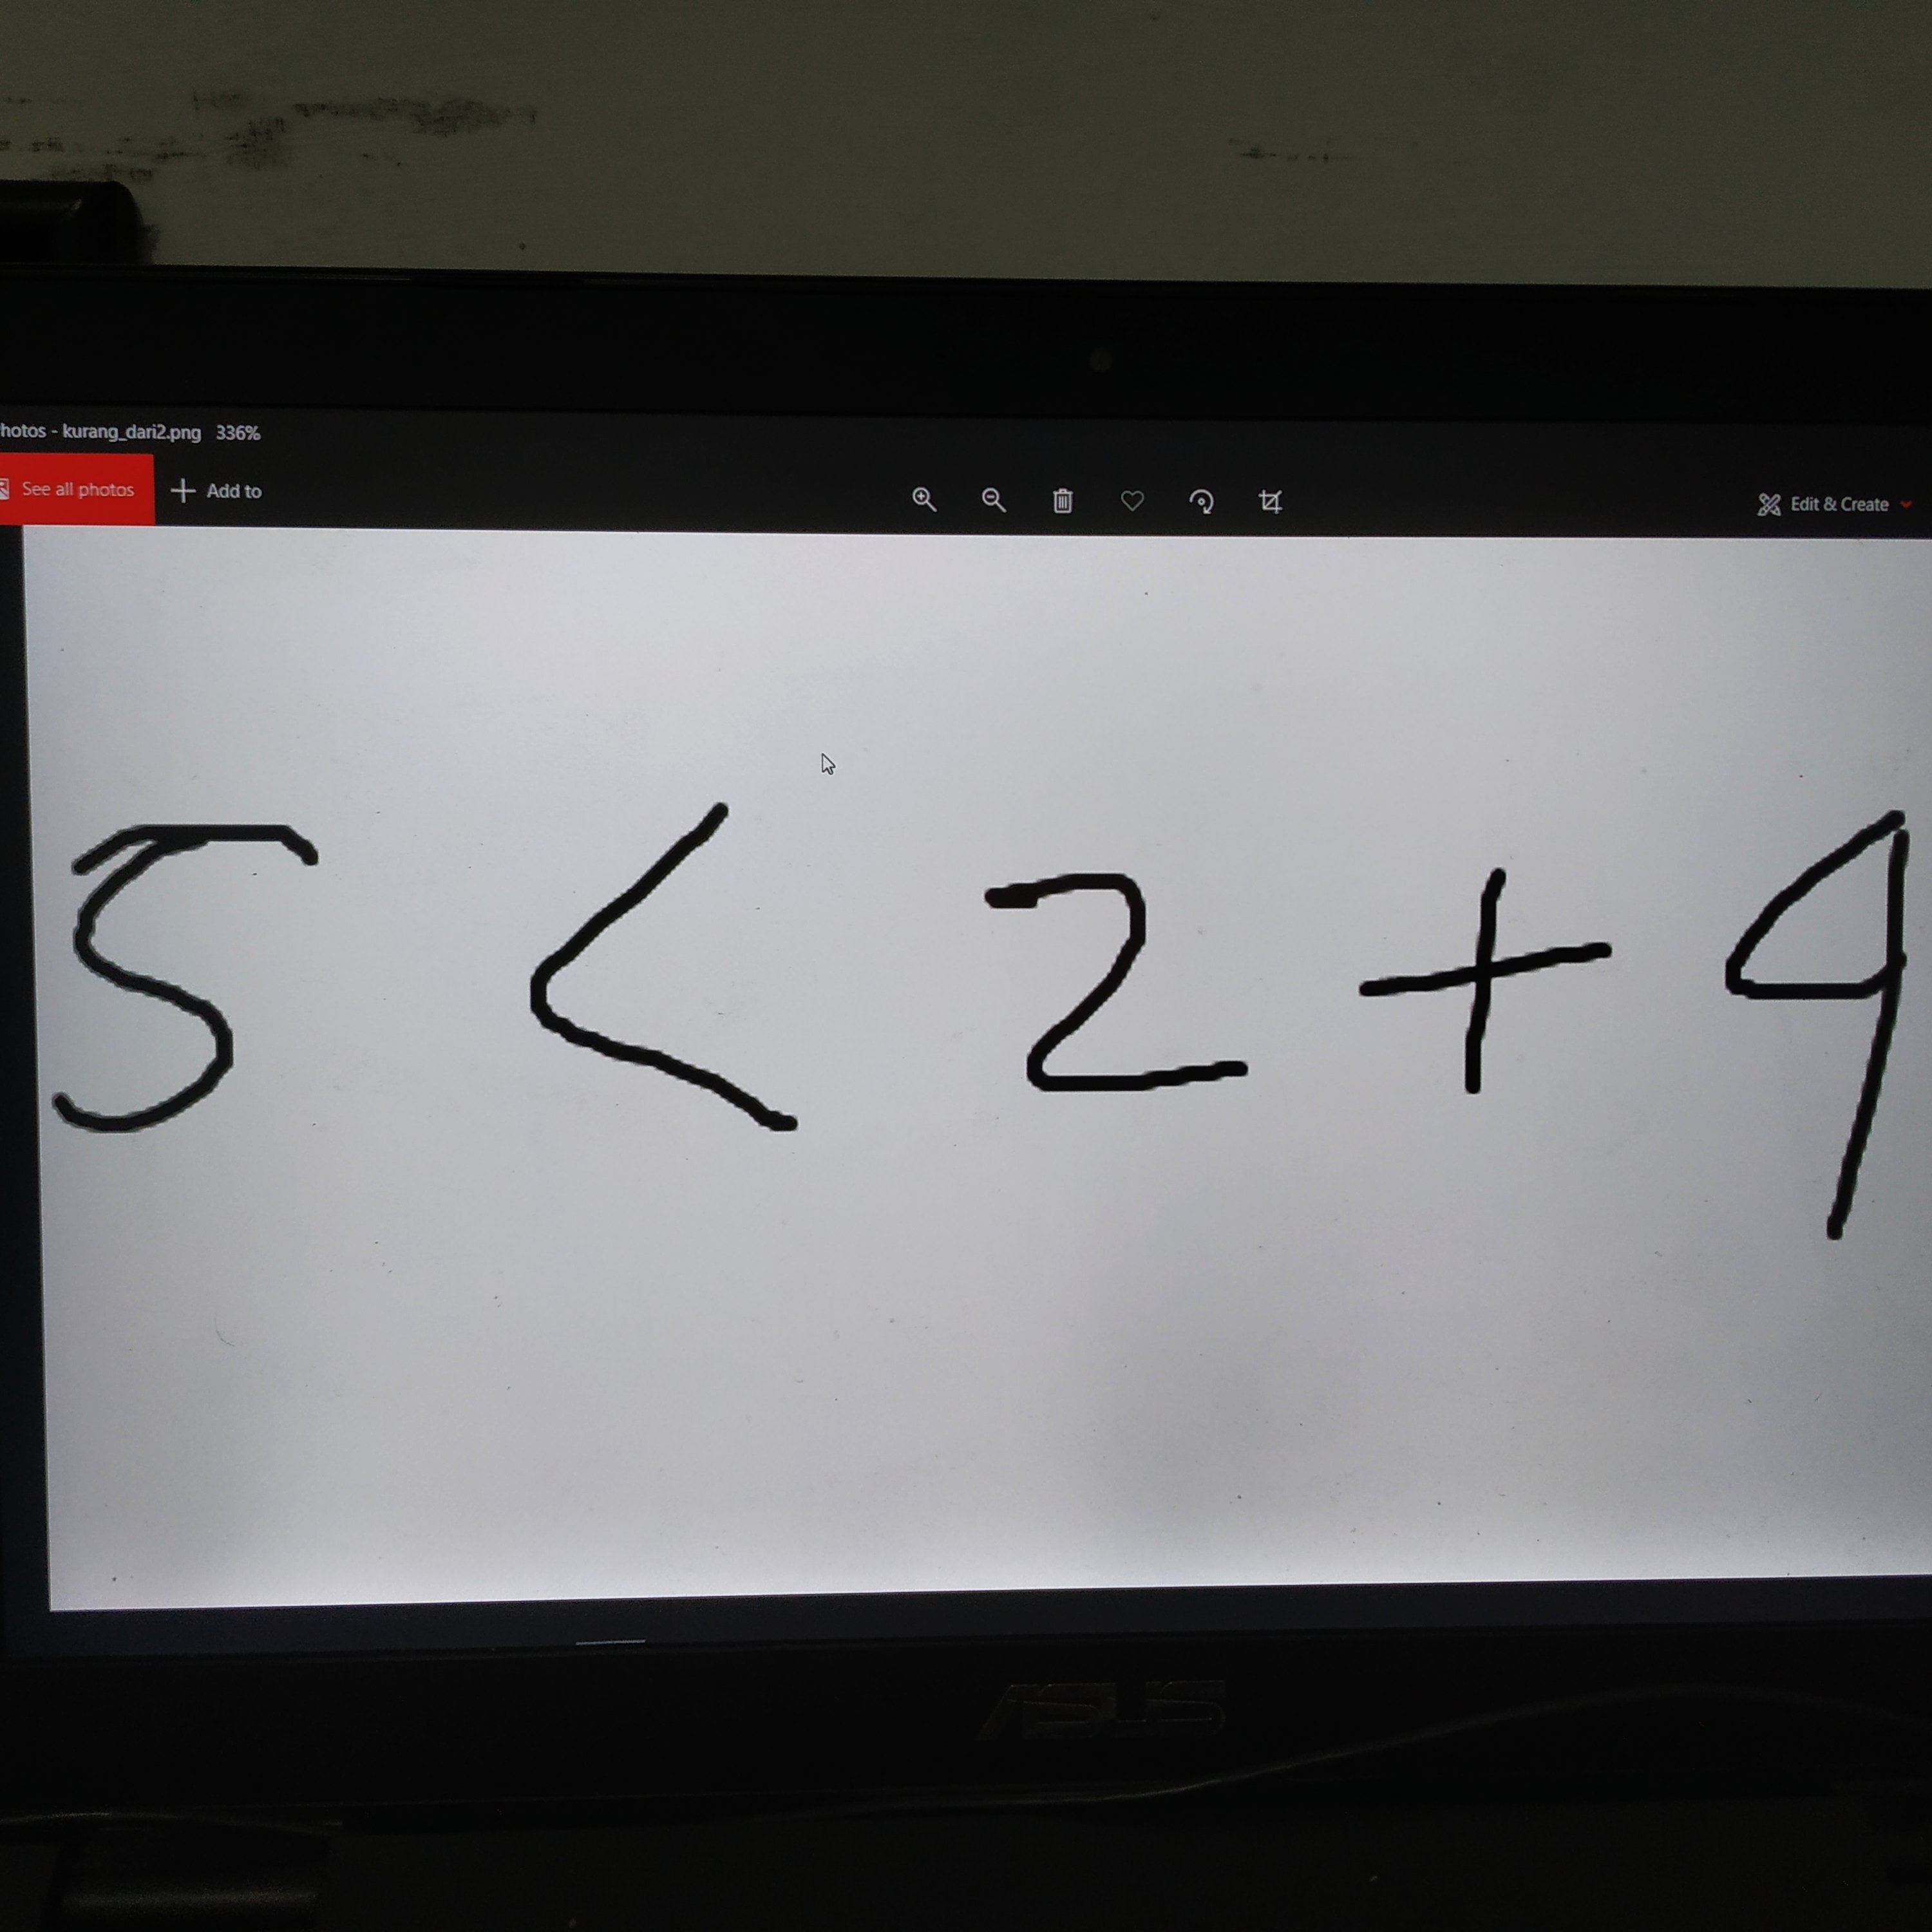lessthan: (506, 793, 842, 1159)
num2: (961, 862, 1294, 1128)
num4: (1683, 790, 1917, 1307)
num5: (38, 806, 346, 1149)
sum: (1338, 866, 1654, 1108)
